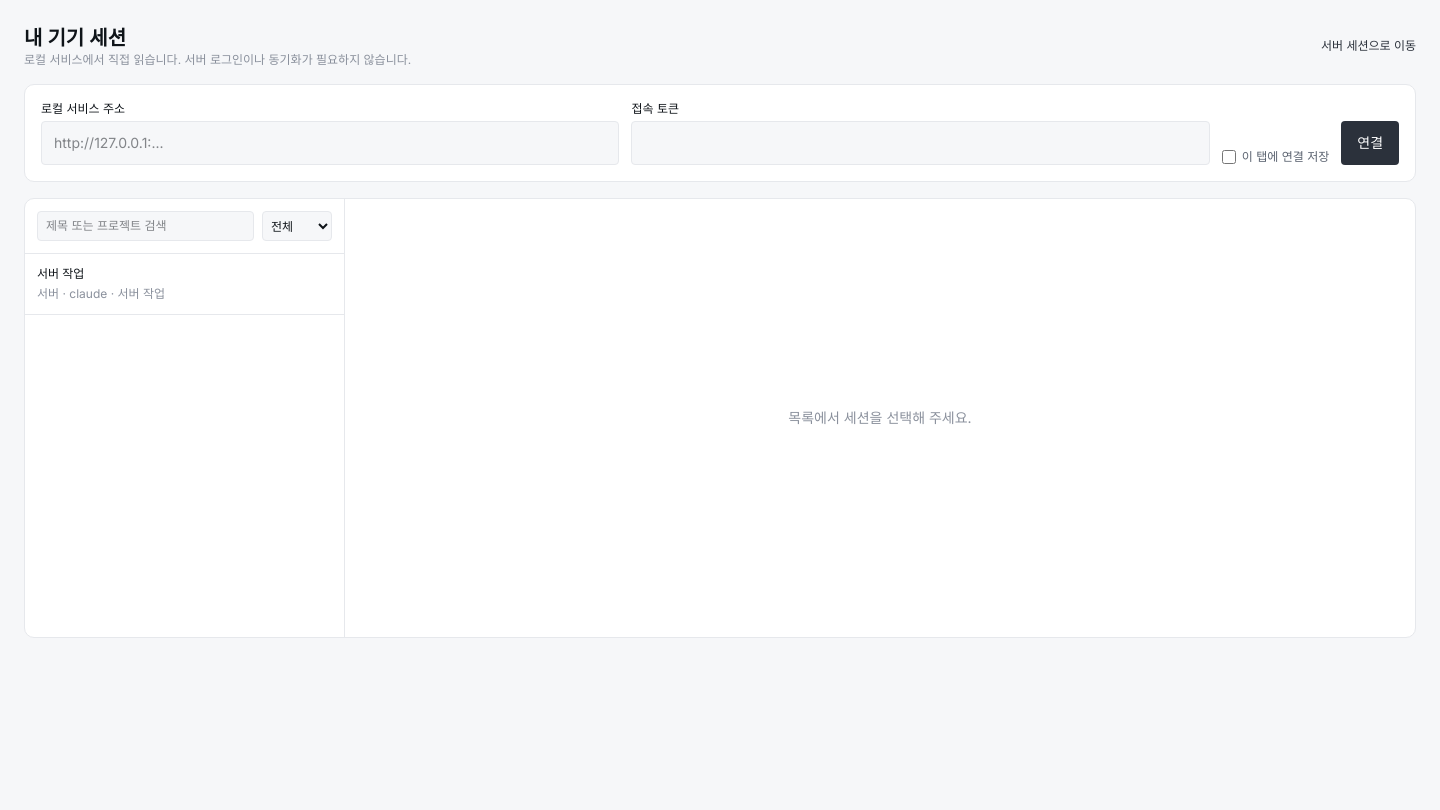
LocalSessionsPanel › clears the grouping after reconnecting to another local source
Type "http://127.0.0.1:4567" into the field labelled "로컬 서비스 주소". click: (330, 143)
box: [41,121,619,165]
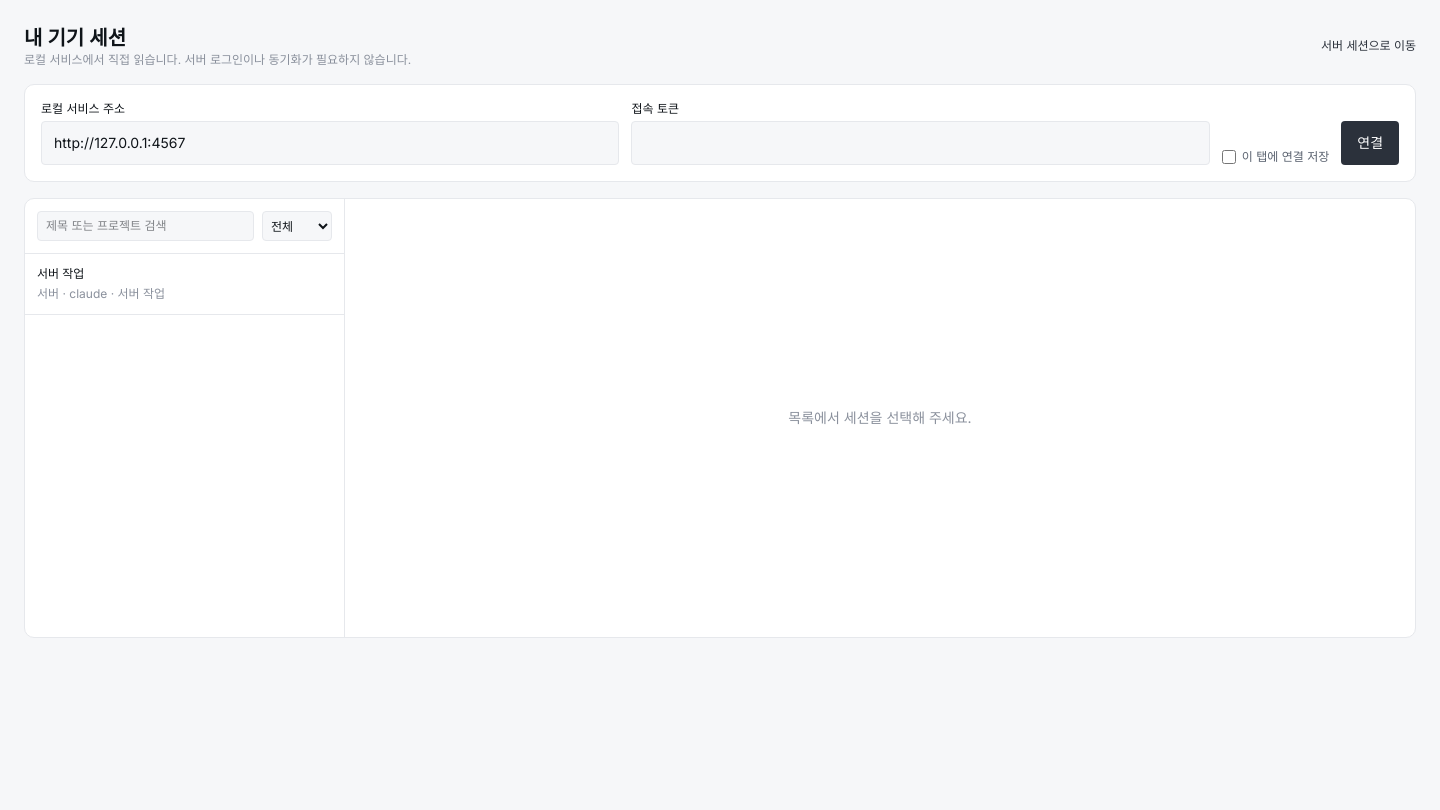
Type "temporary-value" into the password field labelled "접속 토큰". click: (921, 143)
box: [631,121,1210,165]
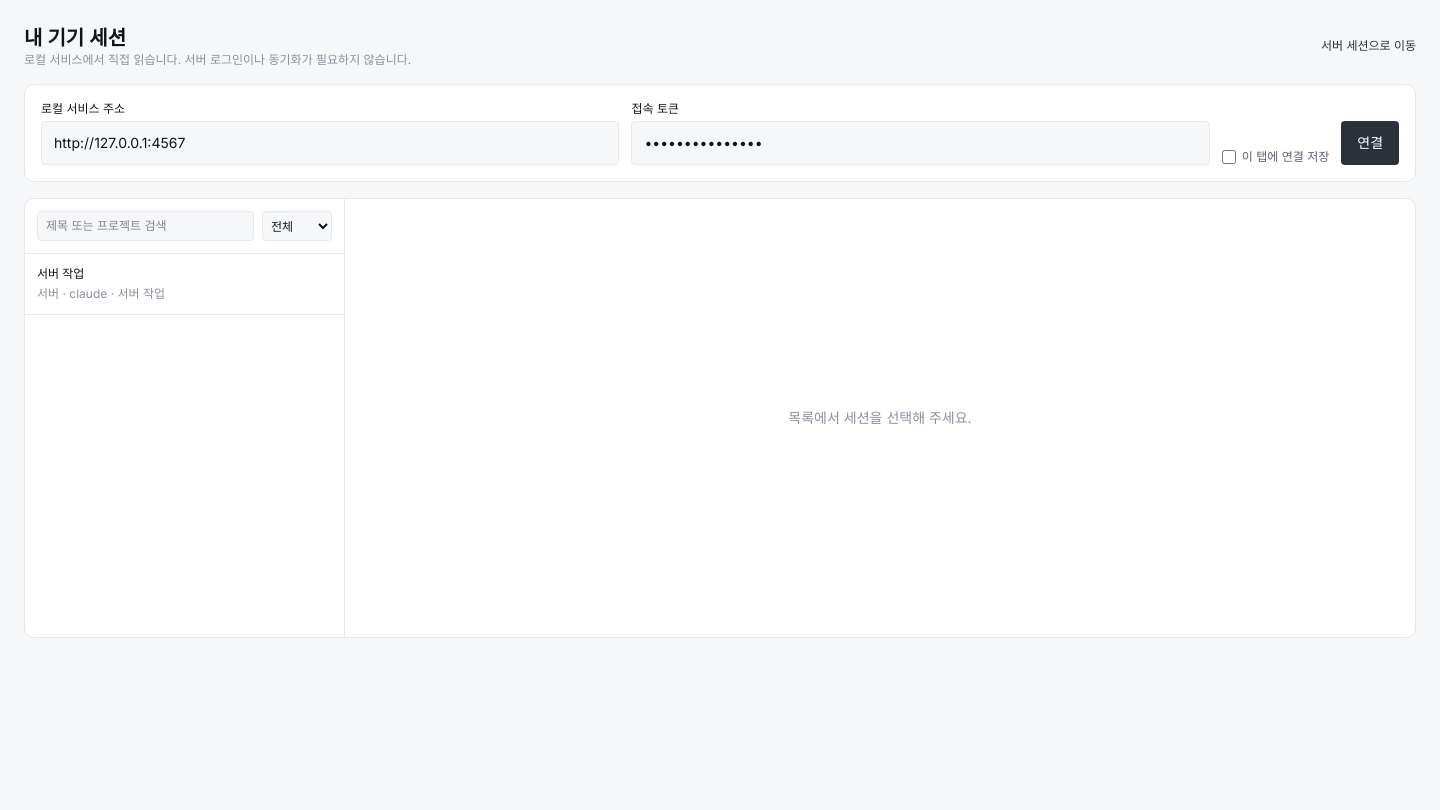
Click the button "연결". click: (1370, 143)
box: [1341,121,1399,165]
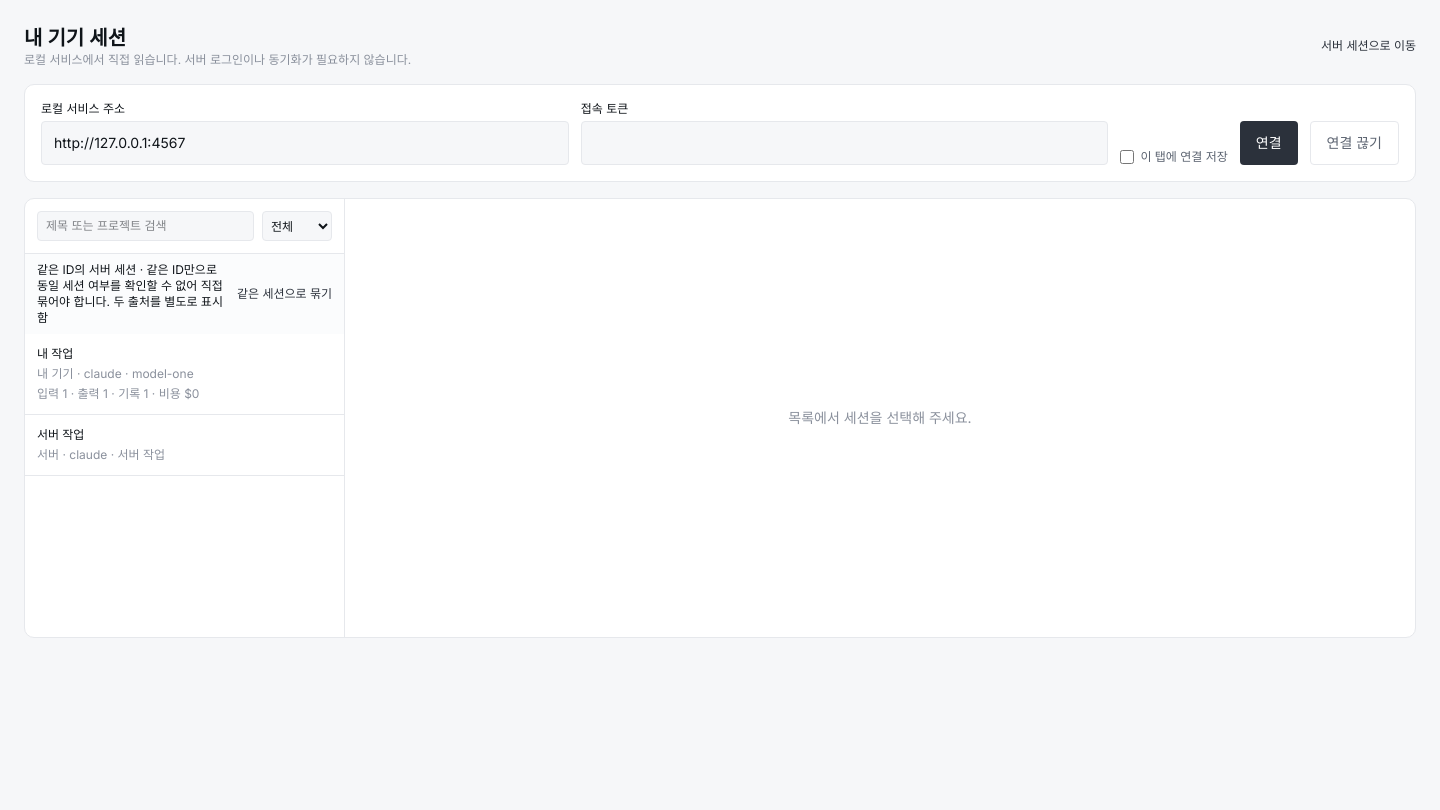
Now the button "같은 세션으로 묶기" is shown
Click the button "같은 세션으로 묶기". click: (284, 294)
box: [237,286,332,302]
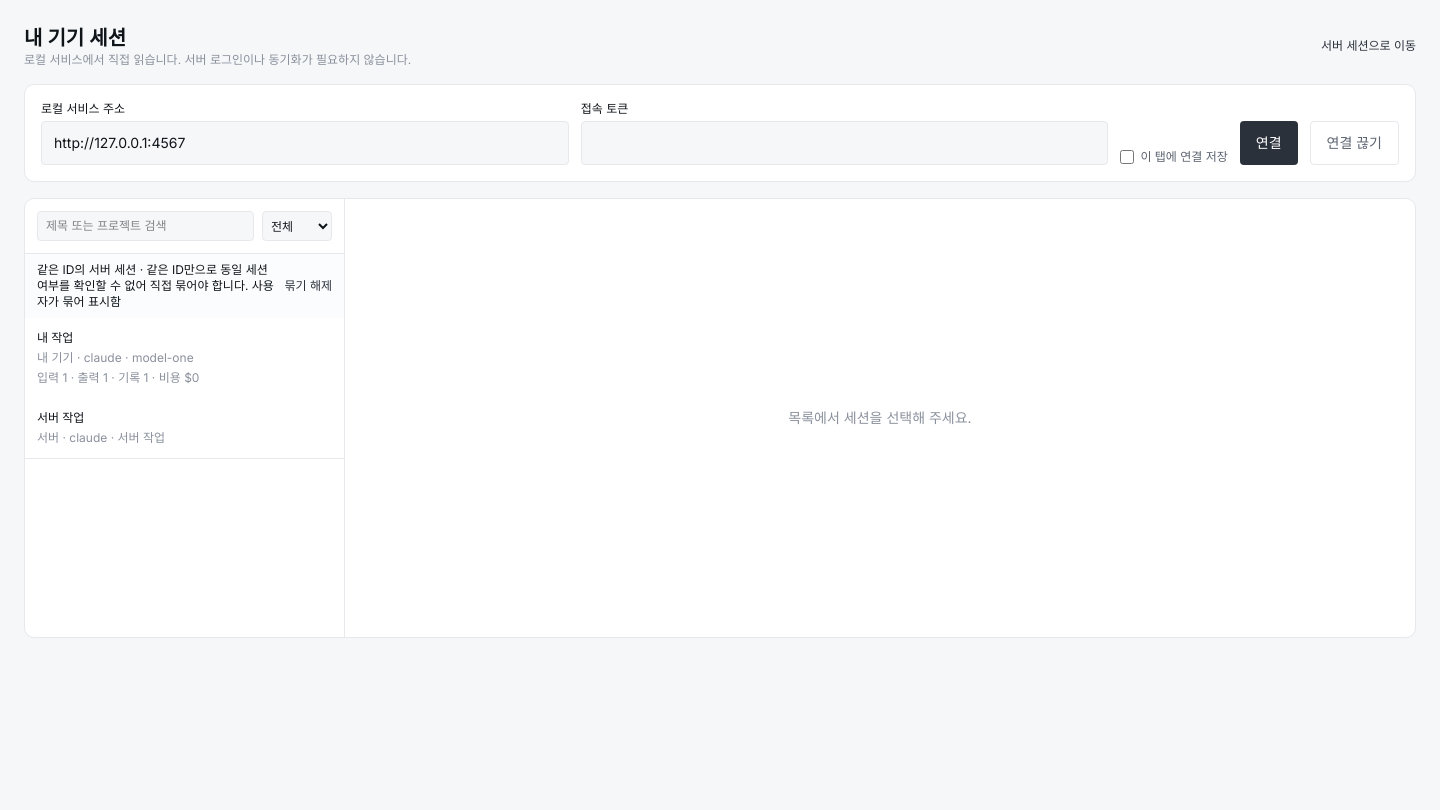
Type "another-token" into the password field labelled "접속 토큰". click: (845, 143)
box: [581,121,1108,165]
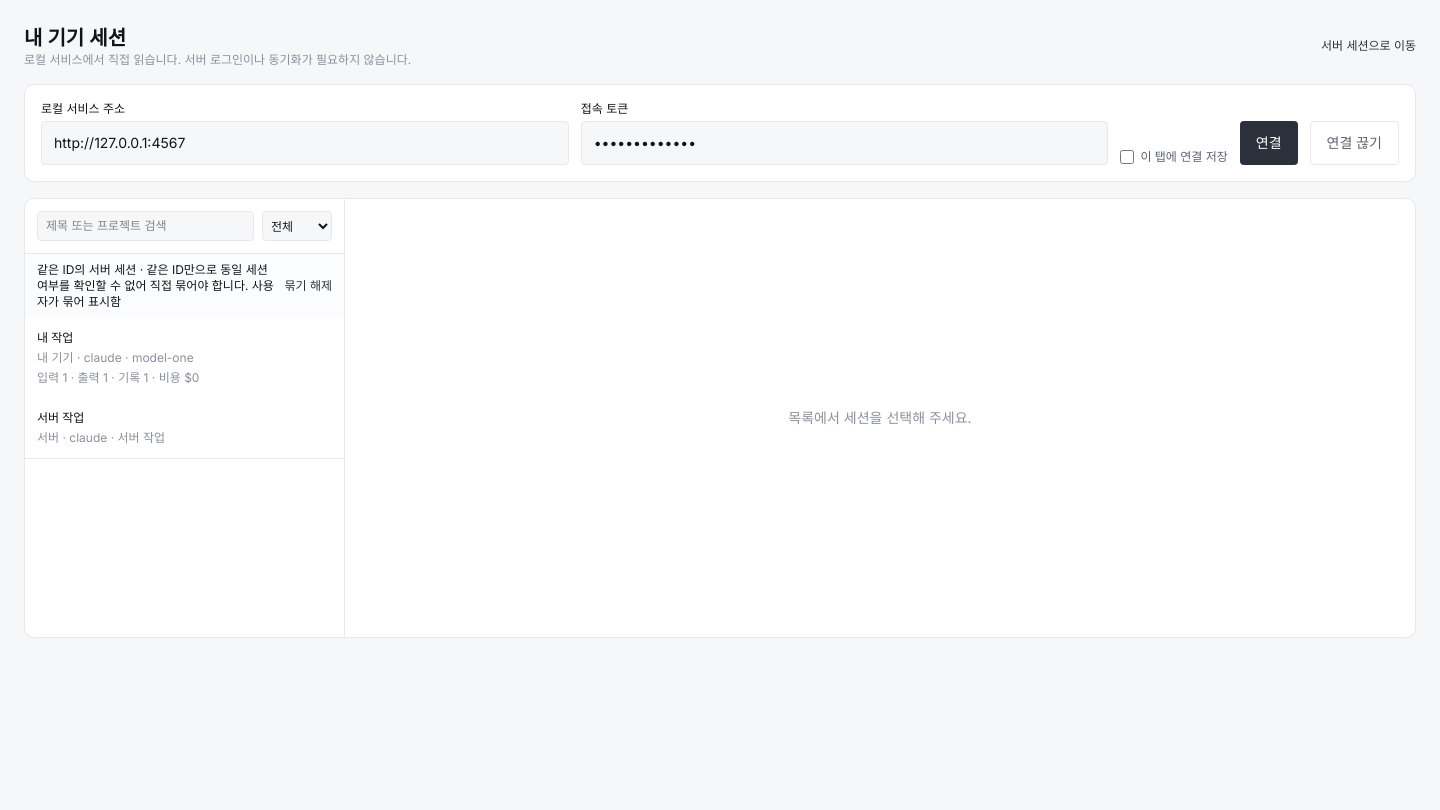
Click the button "연결". click: (1269, 143)
box: [1240,121,1298,165]
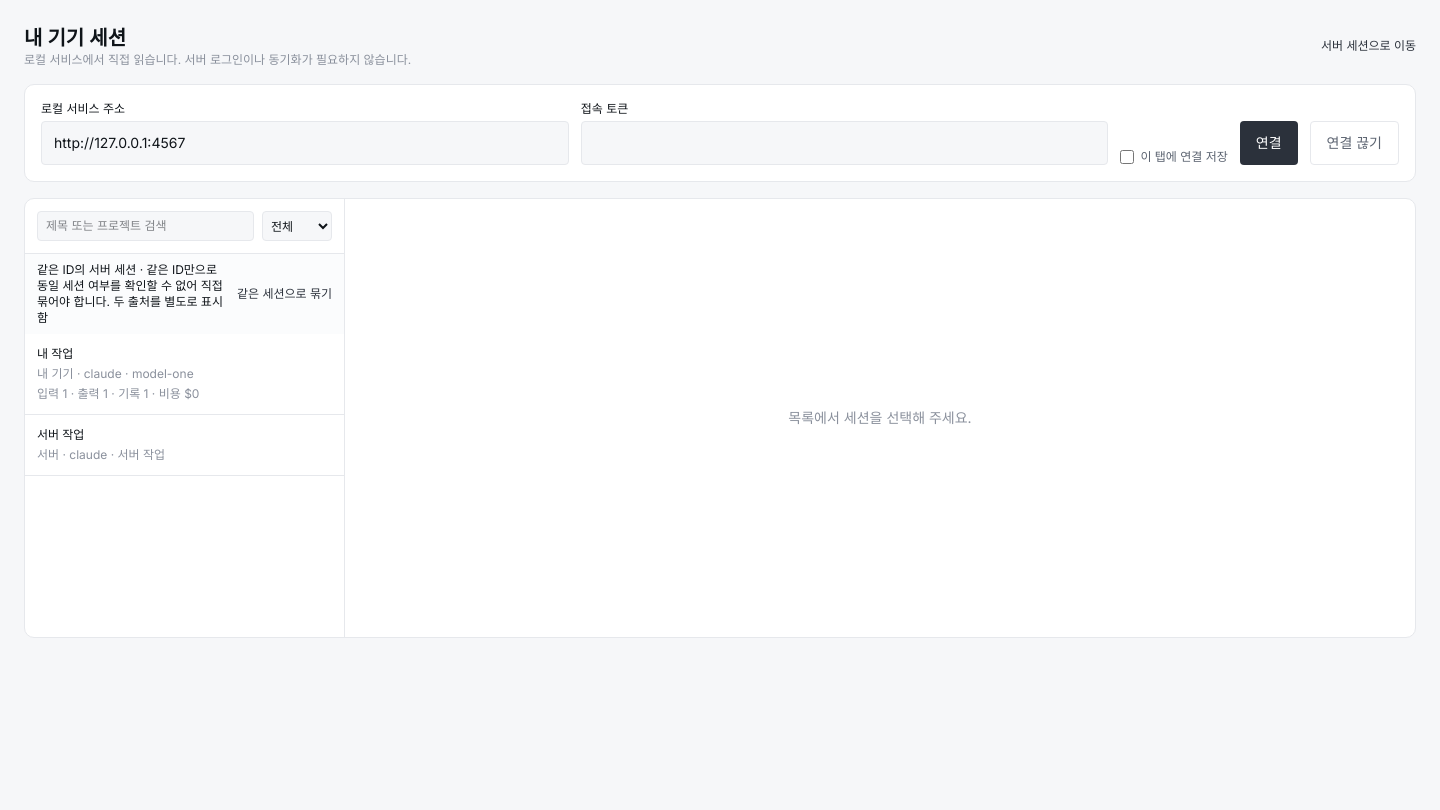
Now the button "같은 세션으로 묶기" is shown, box [237,286,332,302]
Now the button "묶기 해제" is gone
